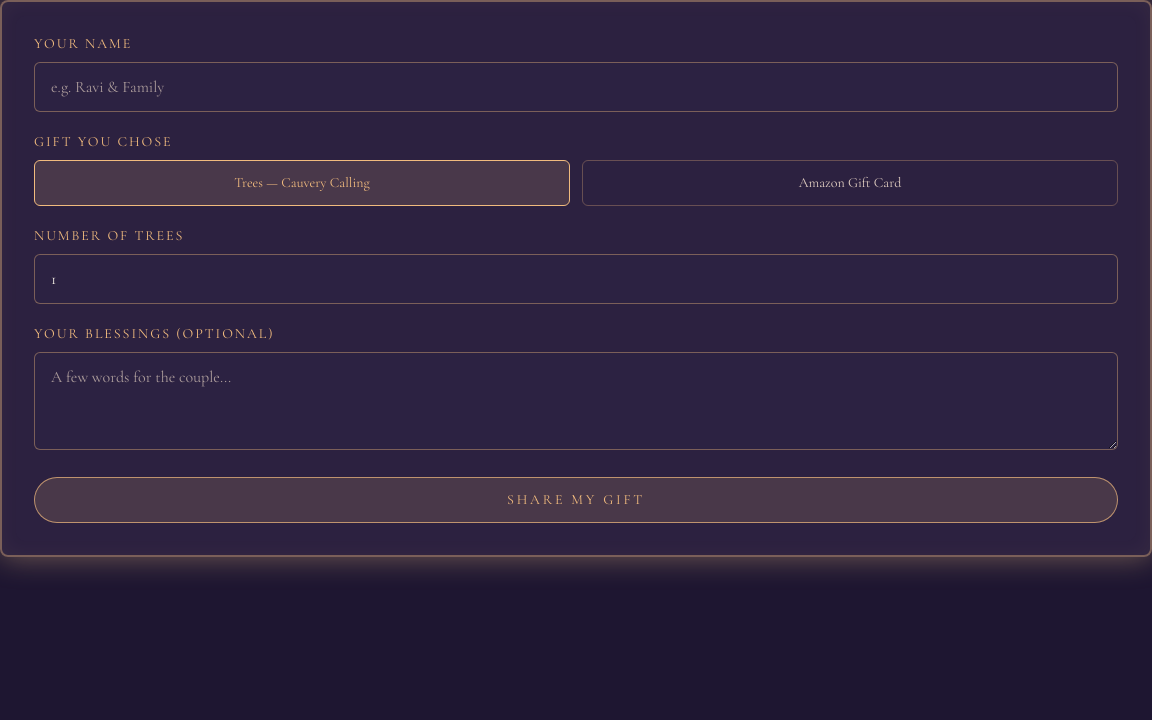
Test case: GiftPledgeForm › saves a tree pledge with the tree count
Type "Ravi" into the field labelled "Your Name".
click(576, 87); type("Ravi")  # box [34, 62, 1118, 112]
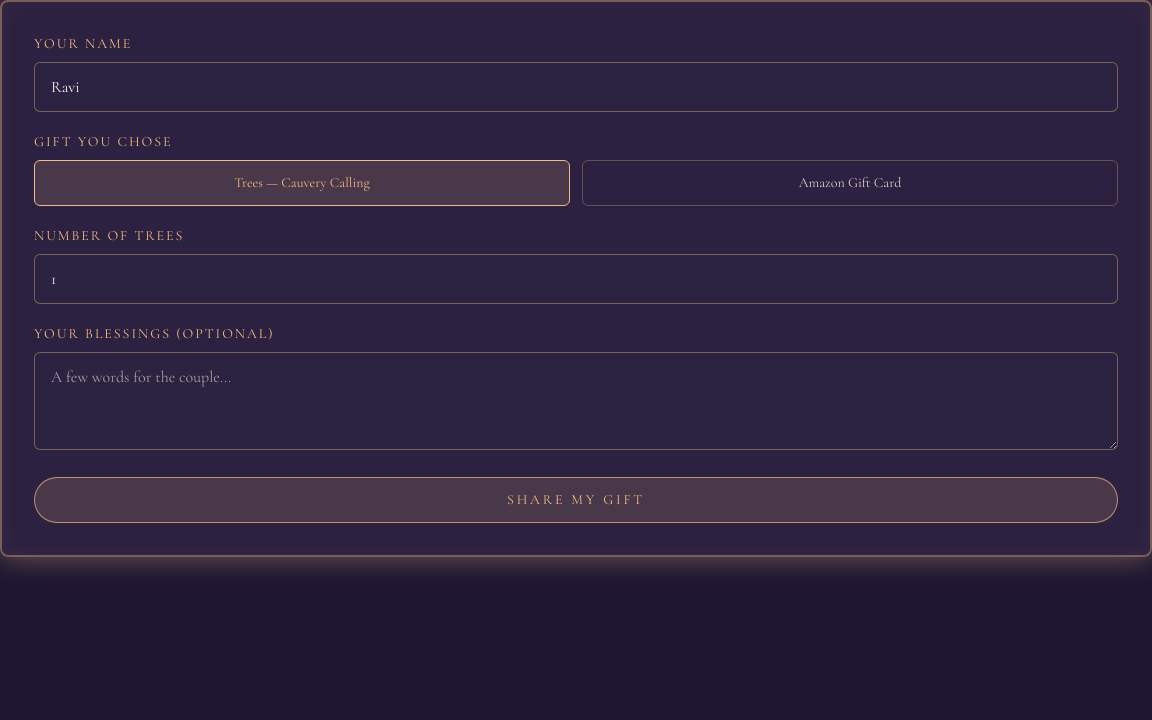
Replace the text in the number field labelled "Number of Trees" with "5" at (576, 279), box [34, 254, 1118, 304]
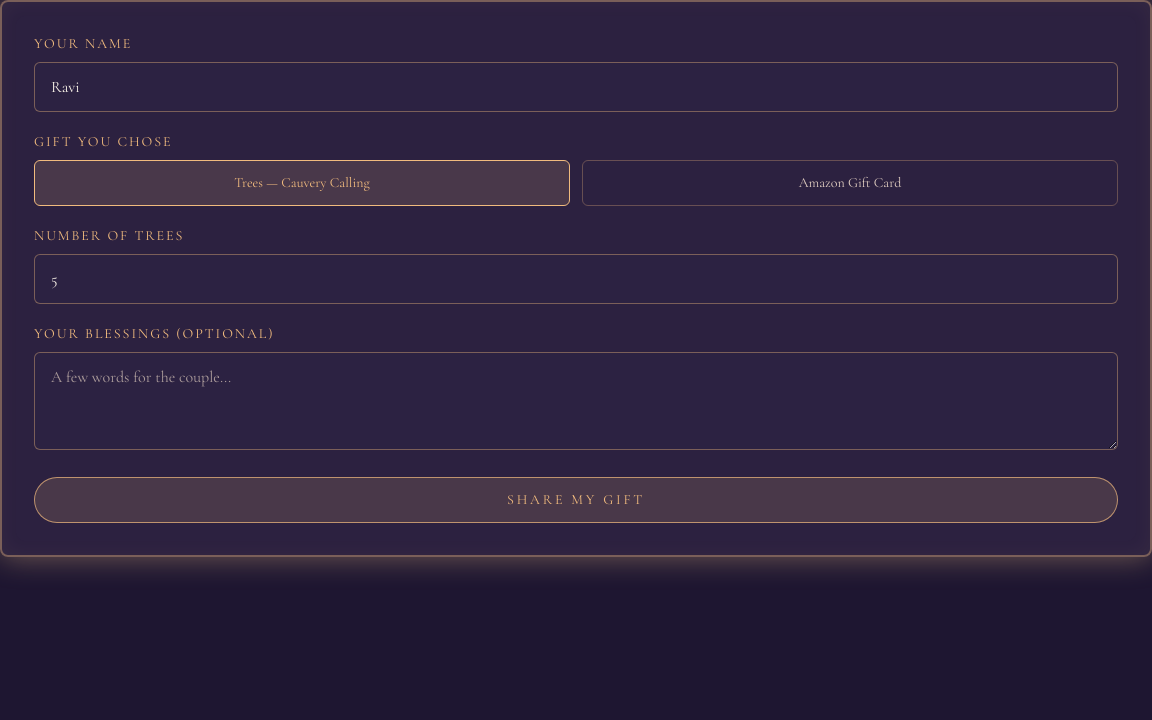
Click the button "Share My Gift".
click(576, 500)  # box [34, 477, 1118, 523]
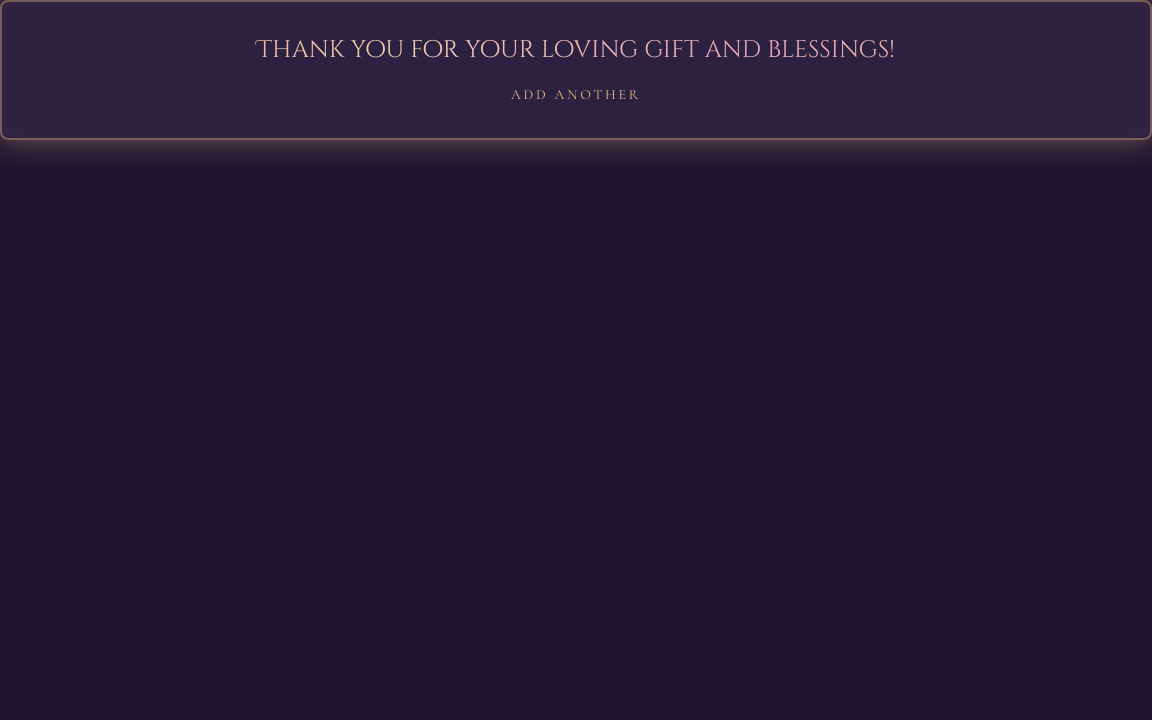
Result: the text "Thank you for your loving gift and blessings!" is shown at [34, 34, 1118, 66]
